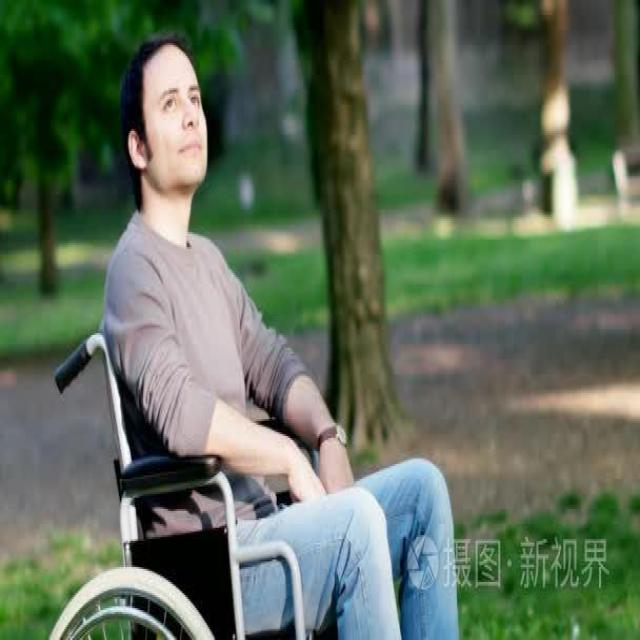wheelchairs: (31, 325, 433, 640)
